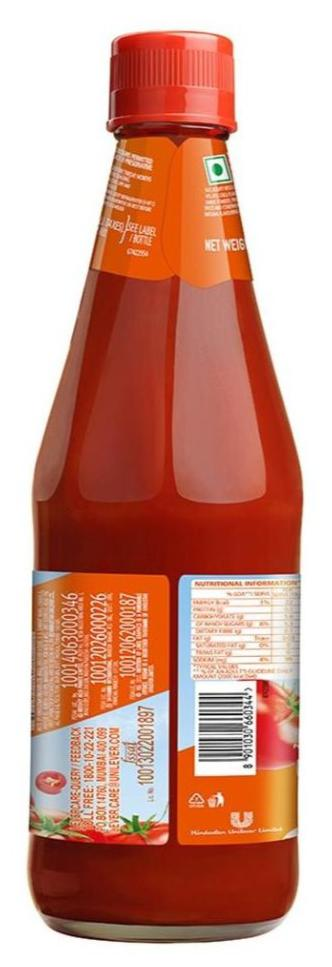fssai: (122, 739, 137, 768)
